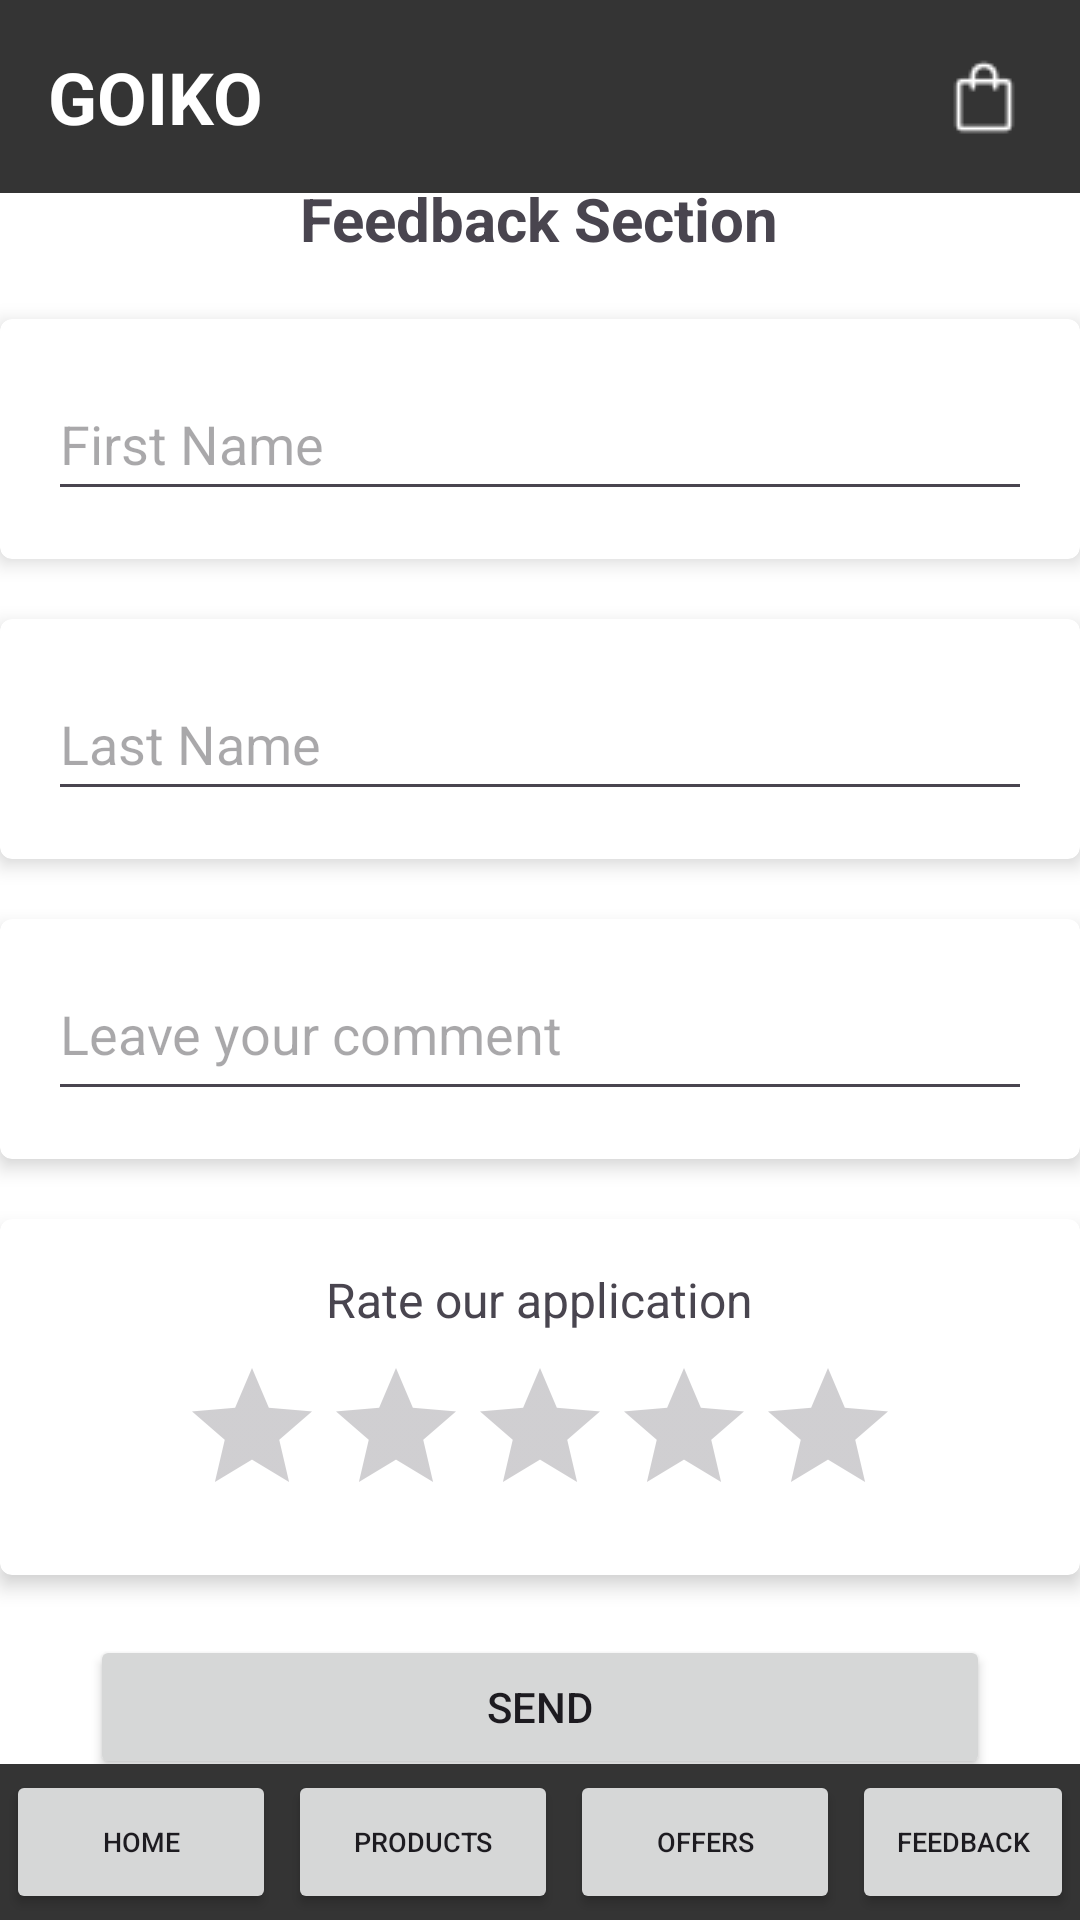

Locate icon controls on the screen. Image size 1080×1920, boxes as (x1=x1, y1=y1, x2=x2, y2=y2).
Cart: (x1=954, y1=61, x2=1014, y2=133)
